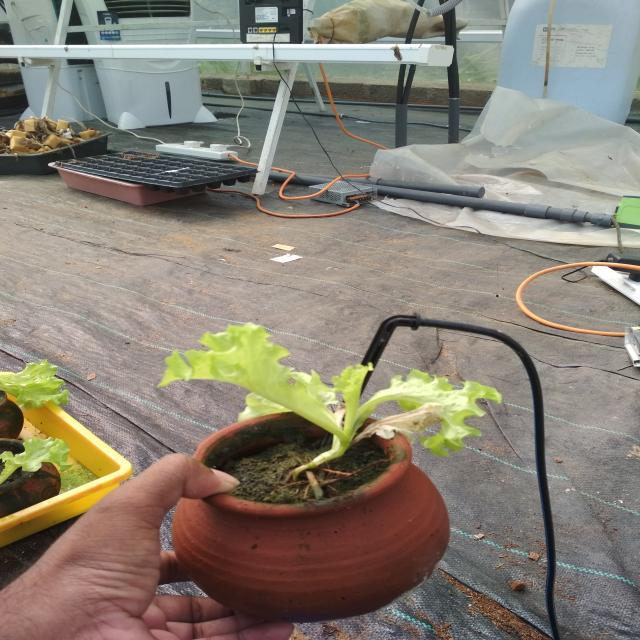Lettuce-Not-Ready-to-Harvest: (162, 322, 501, 477), (0, 360, 69, 408), (0, 438, 68, 484)
